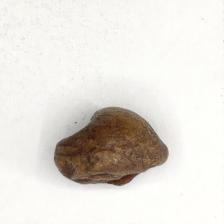NG: (56, 106, 168, 187)
